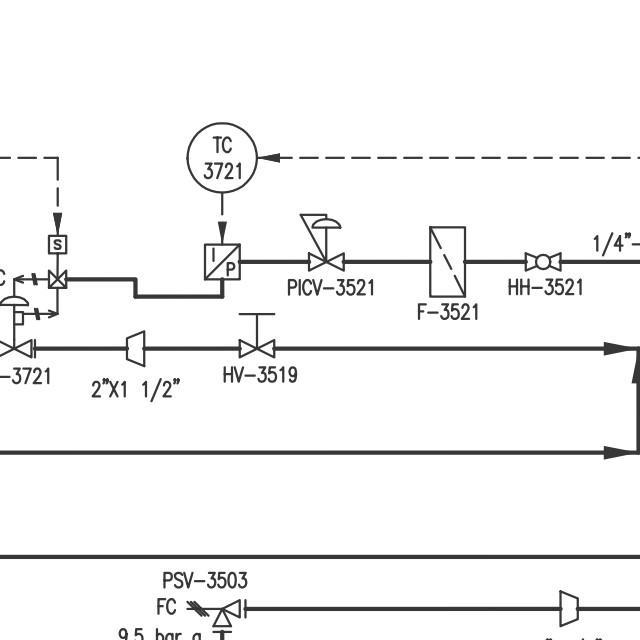BV2: (518, 247, 564, 274)
CBV: (0, 226, 72, 362)
EPA: (201, 237, 247, 285)
F2: (425, 221, 472, 301)
HVWT: (235, 307, 278, 360)
PCV: (295, 208, 349, 274)
RPV: (182, 592, 256, 638)
SP: (553, 585, 585, 629), (121, 327, 149, 370)
